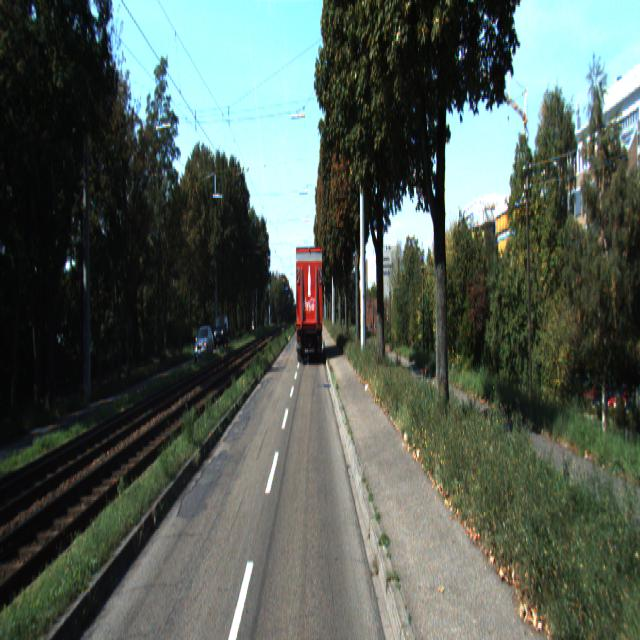Car: (293, 240, 324, 364), (193, 323, 214, 363), (213, 315, 229, 351)
